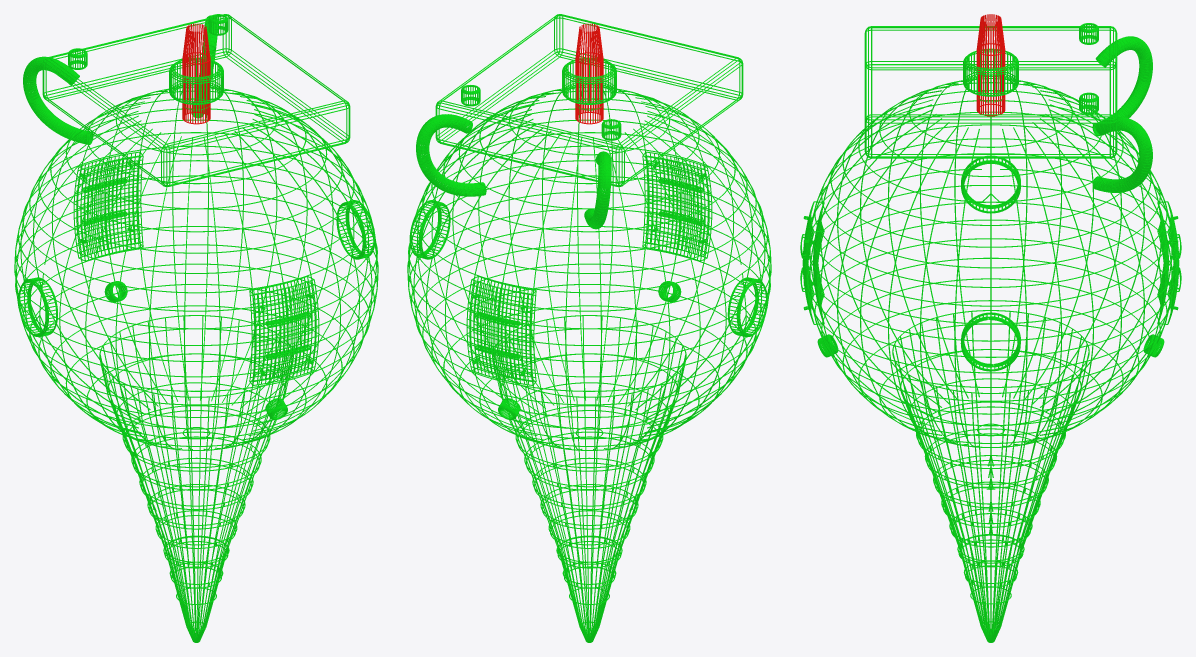
File: deflector-highlight-overpressure-relief-valve.glb
The picture shows the model from 3 angles, left to right: view 1: azimuth 30°, elevation 25°; view 2: azimuth 150°, elevation 25°; view 3: azimuth 270°, elevation 25°; orthographic projection.
Visible parts, largest first — view 1: chassis technical wire, auxiliary-electronics technical wire, energising-nose-cone technical wire, overpressure-relief-valve technical wire; view 2: chassis technical wire, auxiliary-electronics technical wire, energising-nose-cone technical wire, overpressure-relief-valve technical wire; view 3: chassis technical wire, auxiliary-electronics technical wire, energising-nose-cone technical wire, overpressure-relief-valve technical wire.
Boxes of the visible parts, x1,y1,x2,y2 form: chassis technical wire: (14, 57, 378, 487); auxiliary-electronics technical wire: (18, 14, 375, 419); energising-nose-cone technical wire: (133, 433, 259, 642); overpressure-relief-valve technical wire: (182, 23, 210, 124); chassis technical wire: (407, 57, 771, 487); auxiliary-electronics technical wire: (409, 14, 767, 419); energising-nose-cone technical wire: (526, 433, 652, 642); overpressure-relief-valve technical wire: (575, 23, 603, 124); chassis technical wire: (807, 48, 1174, 484); auxiliary-electronics technical wire: (800, 23, 1181, 371); energising-nose-cone technical wire: (926, 431, 1055, 642); overpressure-relief-valve technical wire: (976, 14, 1005, 116).
Size of the model in its own units: 0.9913 by 1.75 by 0.9709.
